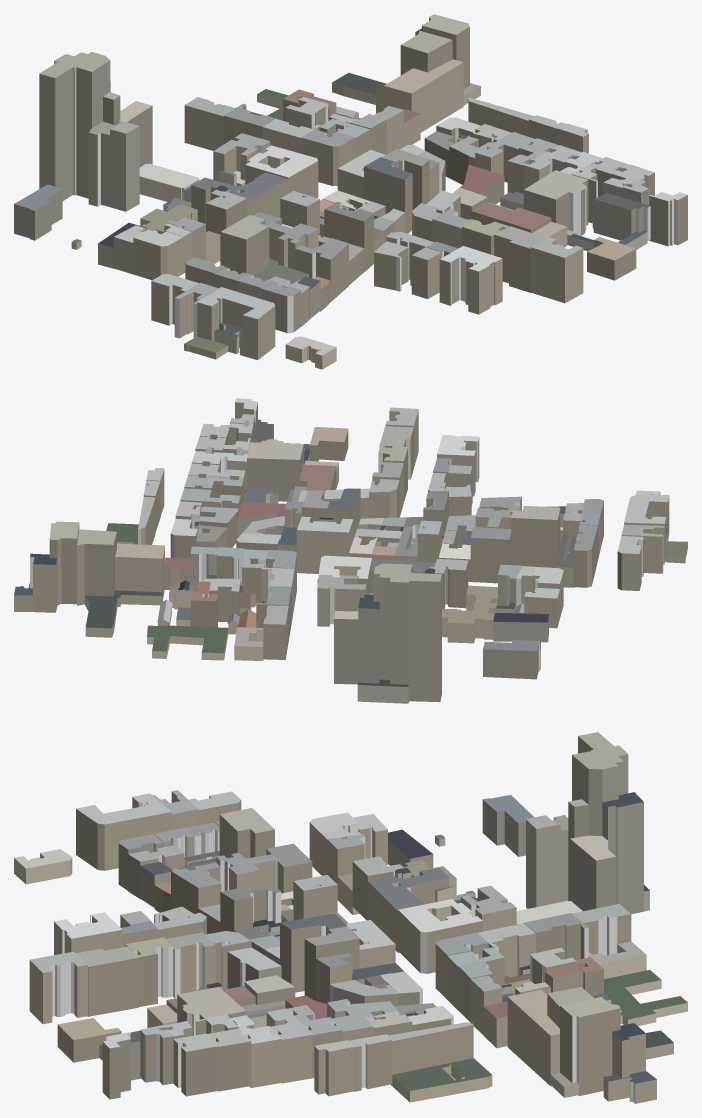
The picture shows the model from 3 angles, top to bottom: view 1: azimuth 30°, elevation 25°; view 2: azimuth 150°, elevation 25°; view 3: azimuth 270°, elevation 25°; orthographic projection. The views are drawn at different scales.
Parts seen in each view (by area): view 1: tuile; view 2: tuile; view 3: tuile.
Boxes of the visible parts, x1=… form: tuile: x1=14, y1=14, x2=687, y2=369; tuile: x1=14, y1=398, x2=687, y2=703; tuile: x1=14, y1=732, x2=687, y2=1103.
Size of the model in its own units: 268 by 65.83 by 277.
